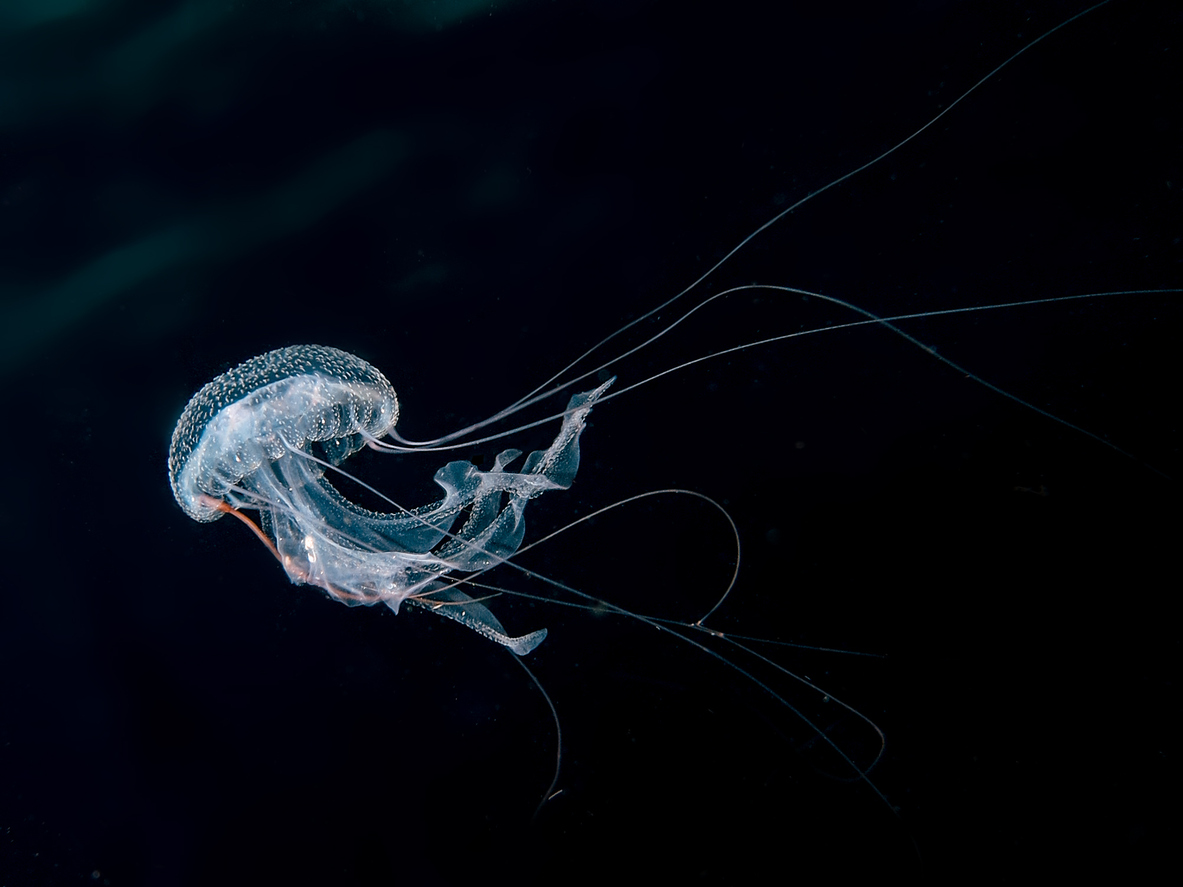jellyfish: (141, 315, 1041, 722)
